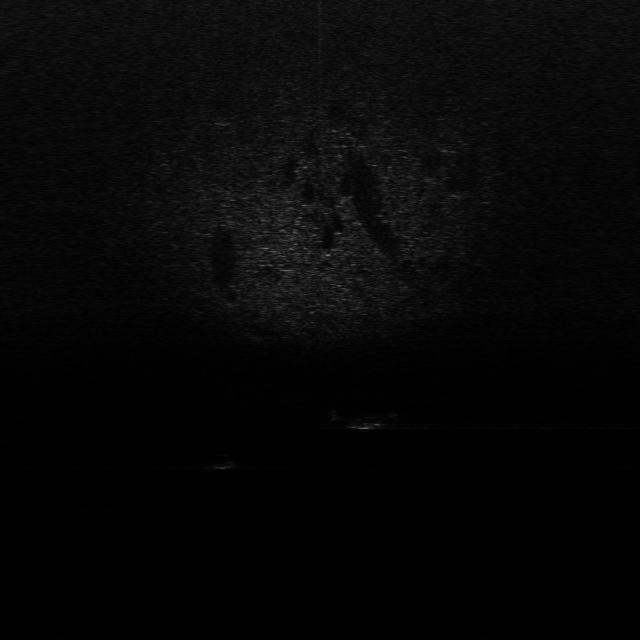ball: (212, 451, 234, 472)
human body: (329, 408, 402, 433)
